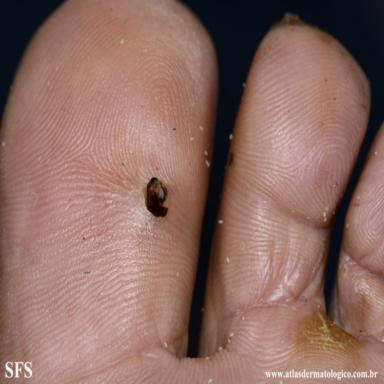Tungiasis: (144, 178, 167, 216), (227, 153, 234, 165)
